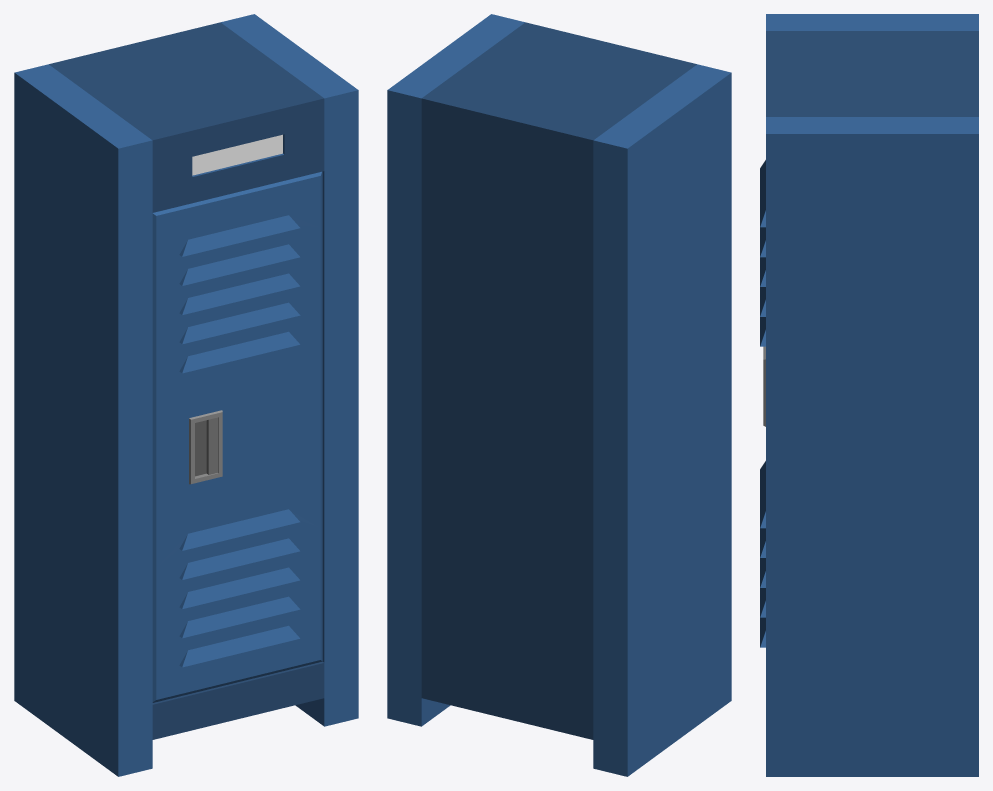
The model's file is Int_Locker01.fbx.
3 views of the same model, side by side, from view 1: azimuth 30°, elevation 25°; view 2: azimuth 150°, elevation 25°; view 3: azimuth 270°, elevation 25° (orthographic). The views are drawn at different scales.
Visible parts, largest first — view 1: Int_Locker01, Int_Locker_Door01; view 2: Int_Locker01; view 3: Int_Locker01, Int_Locker_Door01.
Boxes of the visible parts, x1=… form: Int_Locker01: x1=14, y1=14, x2=358, y2=776; Int_Locker_Door01: x1=152, y1=171, x2=322, y2=702; Int_Locker01: x1=387, y1=14, x2=731, y2=776; Int_Locker01: x1=766, y1=14, x2=978, y2=776; Int_Locker_Door01: x1=760, y1=160, x2=765, y2=647.
Size of what is drawn, in the model's own units: 100 by 77.07 by 250.
